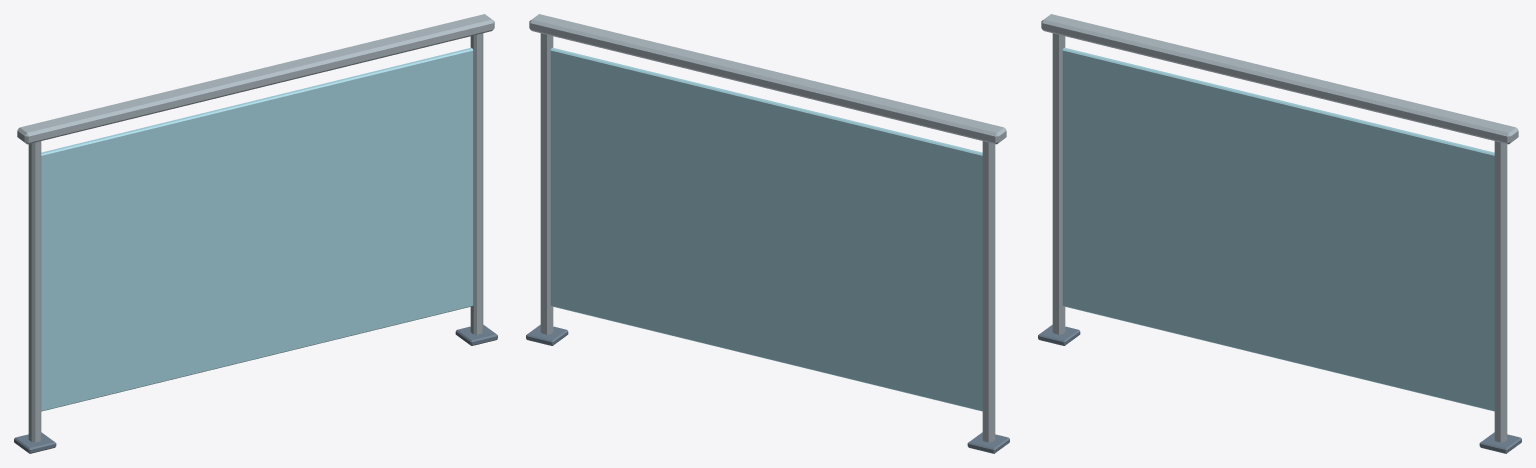
The model's file is architecture_04.glb.
The picture shows the model from 3 angles, left to right: view 1: azimuth 30°, elevation 25°; view 2: azimuth 150°, elevation 25°; view 3: azimuth 330°, elevation 25°; orthographic projection.
Parts seen in each view (by area): view 1: RailingGlass, Handrail, RailingPost (×2), Anchor (×2); view 2: RailingGlass, Handrail, RailingPost (×2), Anchor (×2); view 3: RailingGlass, Handrail, RailingPost (×2), Anchor (×2).
Part boxes in pixels (x1,y1,x2,y2): RailingGlass: (41,48,473,411); Handrail: (17,14,494,144); RailingPost (×2): (28,18,483,442); Anchor (×2): (14,325,497,453); RailingGlass: (550,48,982,411); Handrail: (529,14,1006,144); RailingPost (×2): (540,18,995,442); Anchor (×2): (526,325,1009,453); RailingGlass: (1062,48,1494,411); Handrail: (1041,14,1518,144); RailingPost (×2): (1052,18,1507,442); Anchor (×2): (1038,325,1521,453).
Size of the model in its own units: 1.7 by 1.1 by 0.1.
